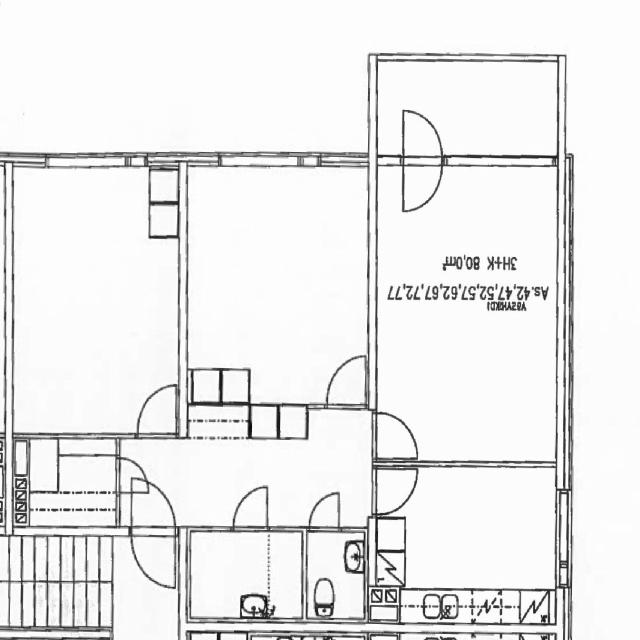door: (132, 478, 174, 538), (132, 528, 174, 588), (403, 108, 441, 166), (403, 153, 441, 210), (371, 468, 414, 514), (328, 360, 366, 409), (138, 389, 176, 438), (371, 414, 413, 458), (233, 488, 267, 532), (115, 457, 149, 492), (308, 493, 338, 532)
